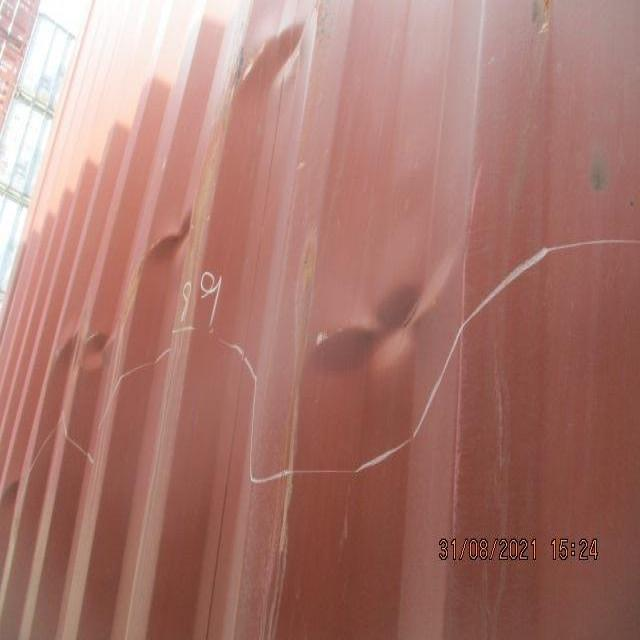Dent: (34, 194, 215, 394), (299, 236, 472, 405)
Minor-Dent: (203, 4, 323, 113)
